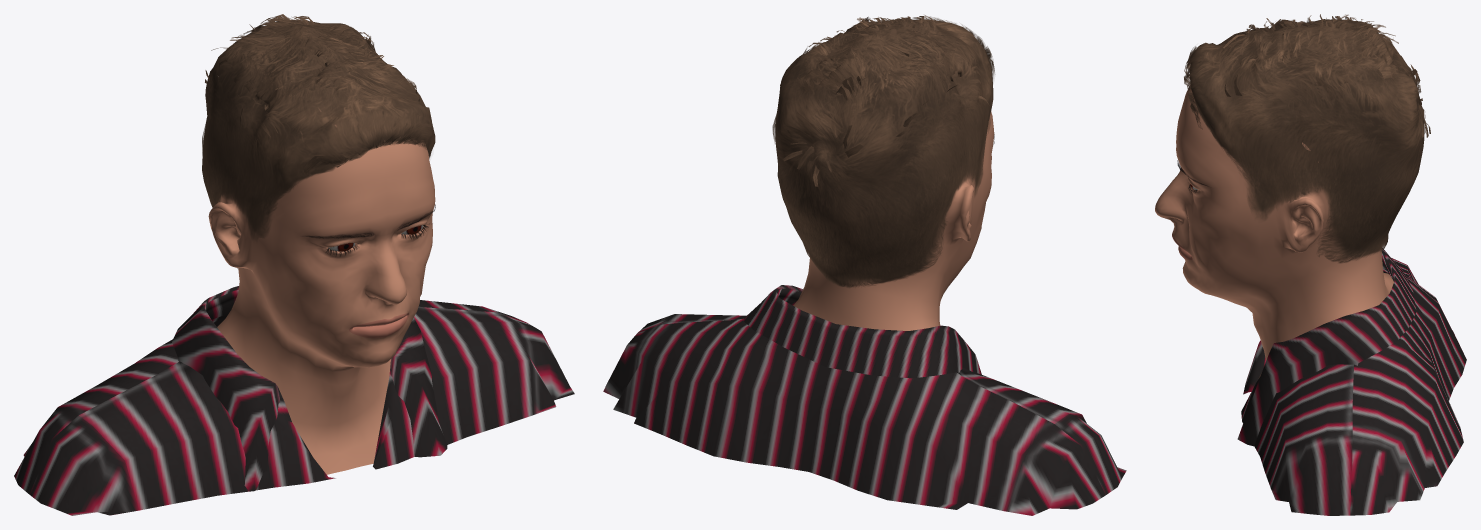
Rendered from man-08.glb.
The picture shows the model from 3 angles, left to right: view 1: azimuth 30°, elevation 25°; view 2: azimuth 150°, elevation 25°; view 3: azimuth 270°, elevation 25°; orthographic projection. The views are drawn at different scales.
Parts seen in each view (by area): view 1: mpfb-face.male_casualsuit03, mpfb-face, mpfb-face.short01; view 2: mpfb-face.male_casualsuit03, mpfb-face.short01, mpfb-face; view 3: mpfb-face.short01, mpfb-face.male_casualsuit03, mpfb-face.
Boxes of the visible parts, <box> form: mpfb-face.male_casualsuit03: <box>14,286,574,515</box>; mpfb-face: <box>208,109,435,474</box>; mpfb-face.short01: <box>202,14,435,268</box>; mpfb-face.male_casualsuit03: <box>603,285,1126,515</box>; mpfb-face.short01: <box>772,15,995,287</box>; mpfb-face: <box>793,111,994,330</box>; mpfb-face.short01: <box>1184,14,1430,263</box>; mpfb-face.male_casualsuit03: <box>1237,248,1466,515</box>; mpfb-face: <box>1155,87,1393,378</box>.
Bounding box in the file's own units: 0.4583 × 0.3473 × 0.2611.
Materials: 9 (7 with a texture image).
